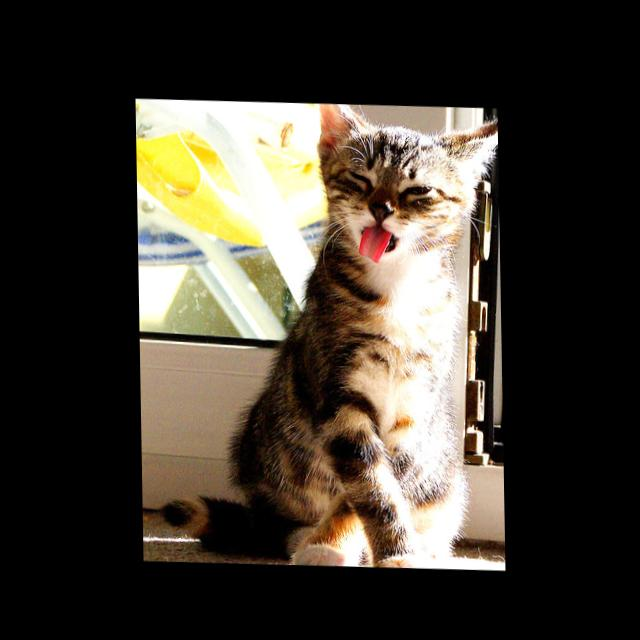animals: (320, 97, 499, 220)
